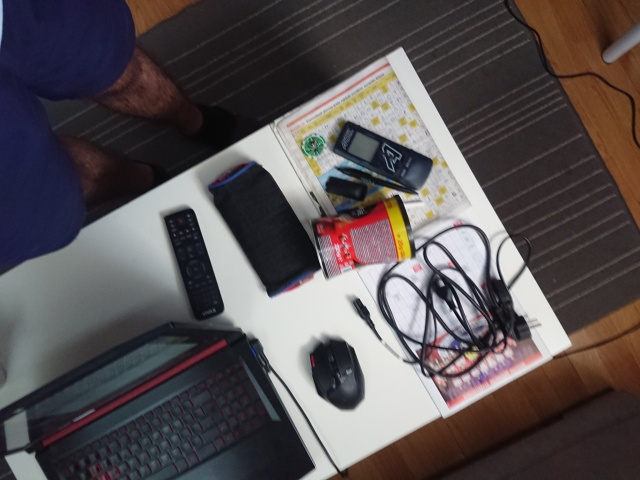Nescafe Classic 225g: (305, 192, 419, 283)
